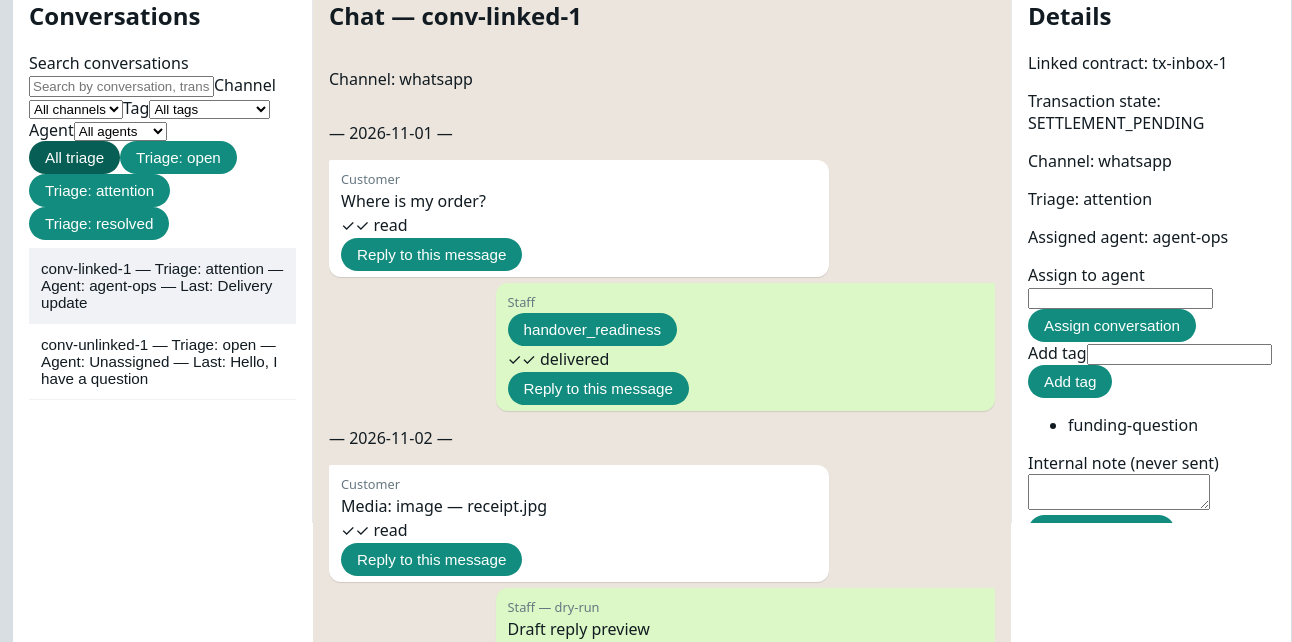
inbox triptych (Sprint 4, PB-13) › reply sets a quote shown above the single composer
Click the button "Reply to this message" below "Where is my order?".
click(432, 254)  # box [341,238,522,271]
(page scrolled)
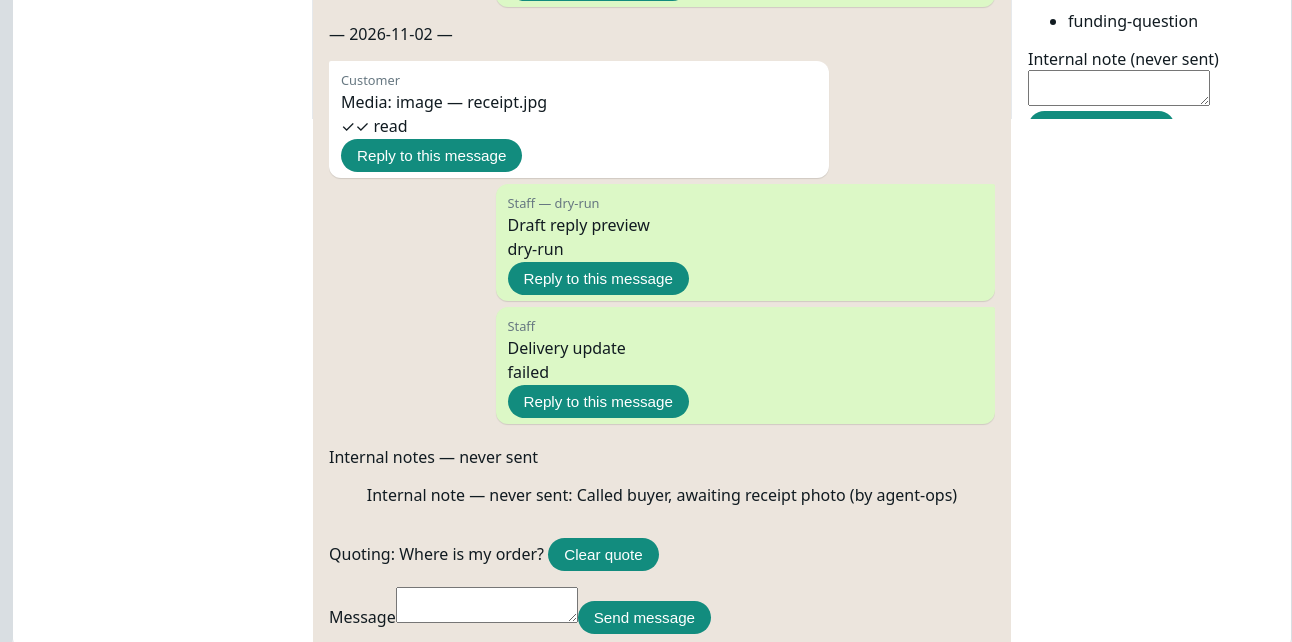
Expected: the number of text boxes labelled "Message" is 1, [396,587,578,623]
Expected: the text "Quoting: Where is my order? Clear quote" is shown, [329,538,659,571]
